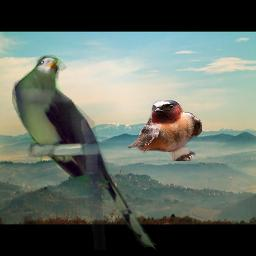Cuckoo: (12, 55, 163, 250)
Swallow: (128, 100, 202, 161)
